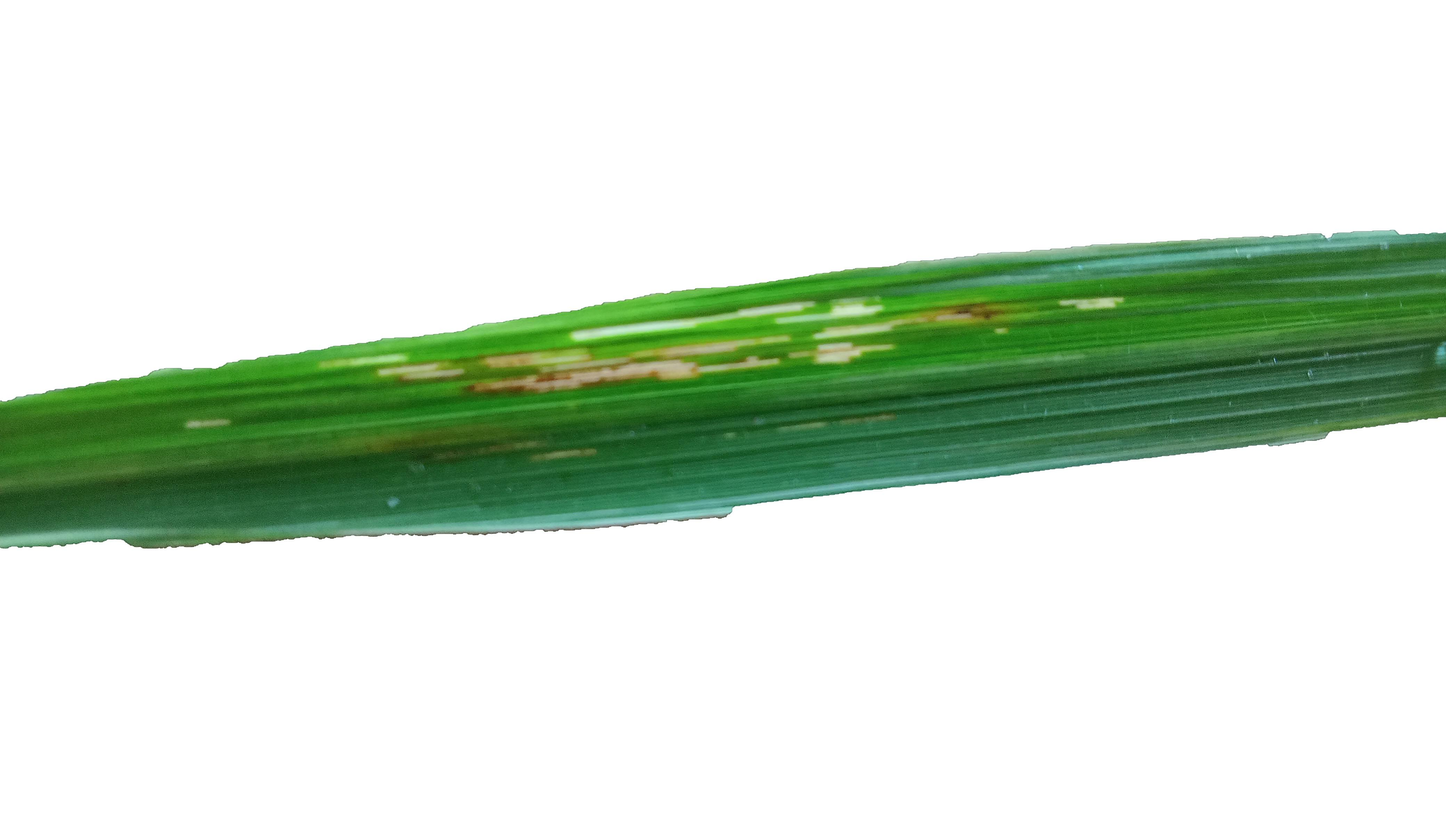Blight: (342, 347, 779, 394), (720, 290, 905, 391), (600, 309, 735, 393)
